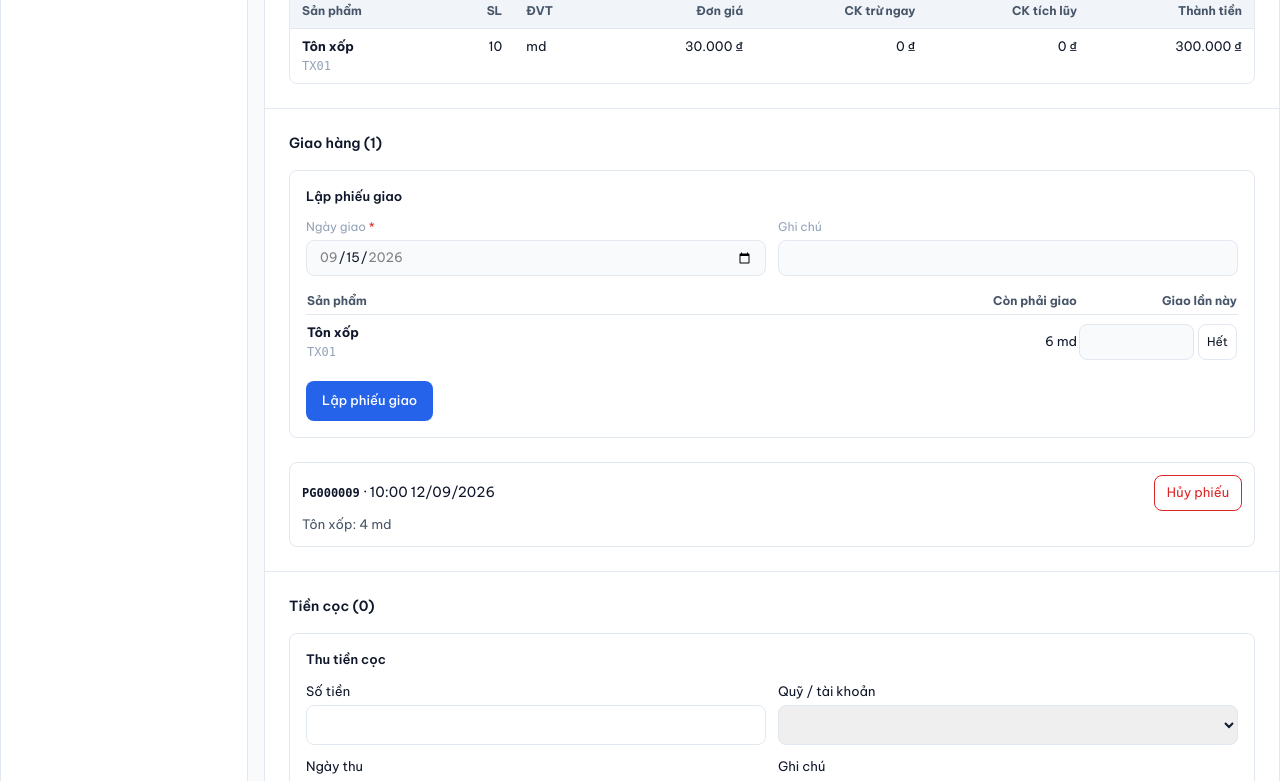
Test: DeliveryPanel (tab Giao hàng) › không nhập số lượng nào → báo lỗi, không gọi API; lỗi từ server hiển thị và giữ dữ liệu nhập
(page scrolled)
Click the button "Lập phiếu giao" at (370, 400), box [306,380,433,420]
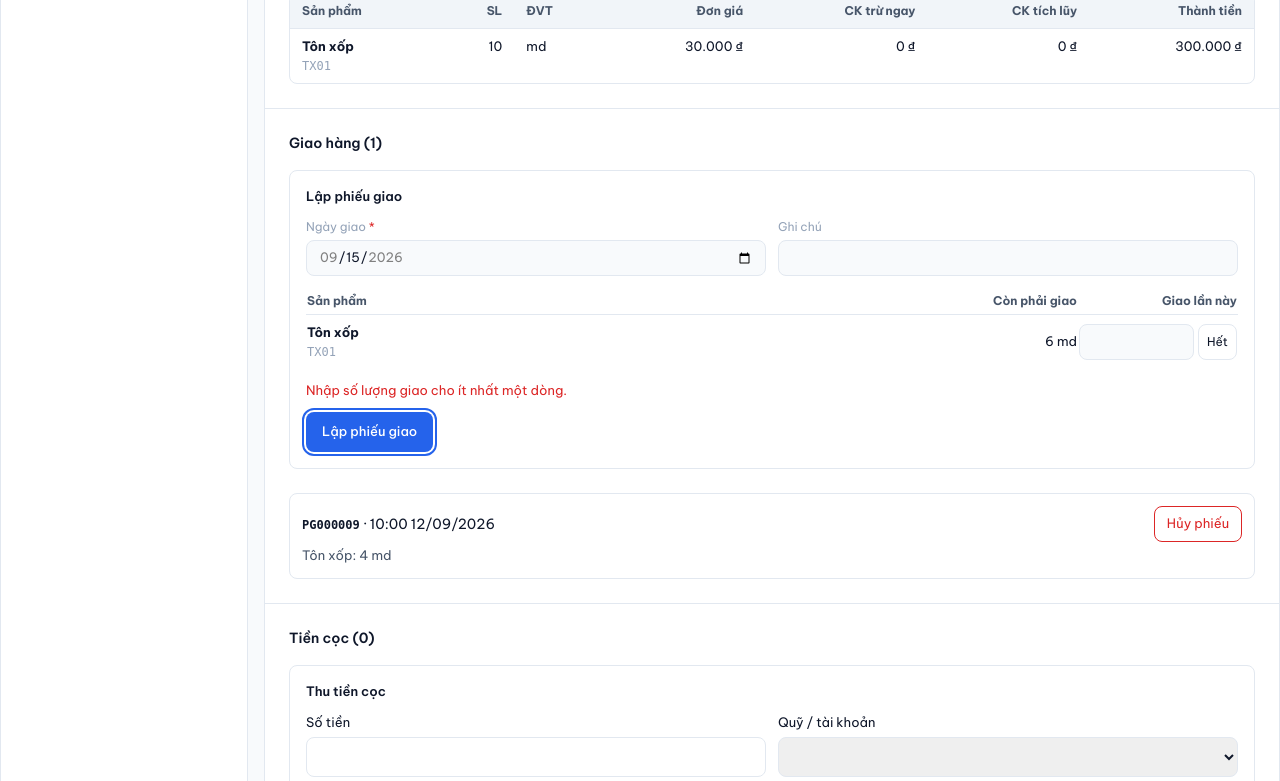
Now the message shows "Nhập số lượng giao", box [306,382,567,398]
Type "9" into the number field named "Số lượng giao Tôn xốp" at (1136, 342), box [1079,324,1194,360]
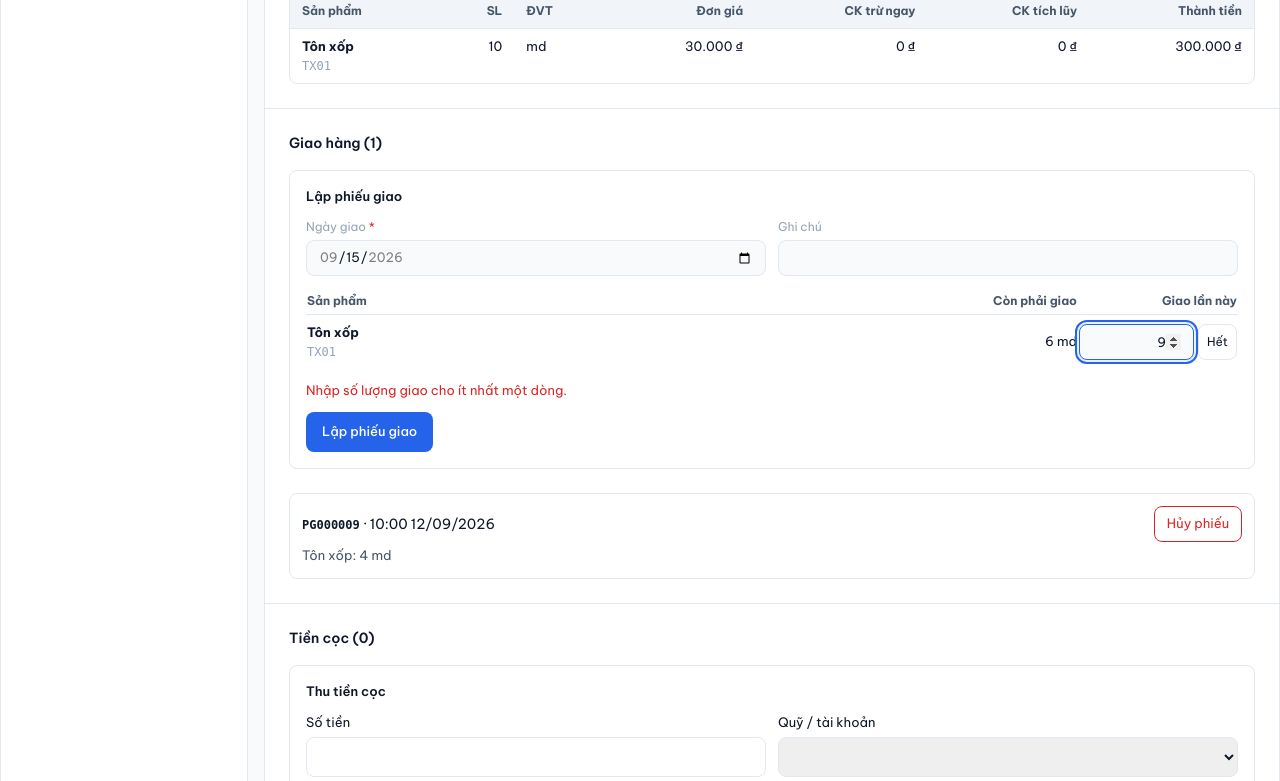
Click the button "Lập phiếu giao" at (370, 432), box [306,412,433,452]
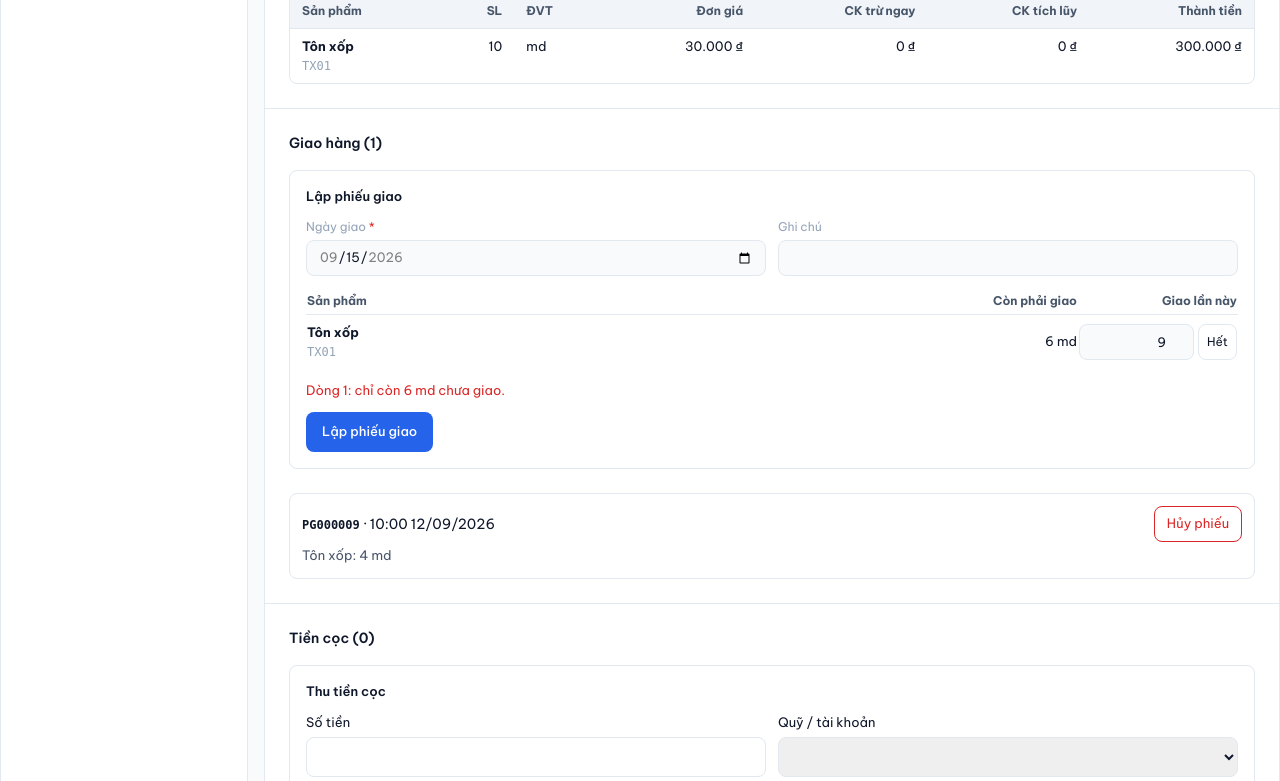
Now the text "Dòng 1: chỉ còn 6 md chưa giao." is shown, box [306,382,505,398]
